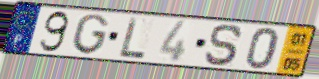0: (244, 26, 282, 71)
4: (157, 18, 190, 65)
9: (38, 10, 71, 53)
G: (70, 13, 111, 56)
L: (118, 15, 147, 60)
S: (203, 23, 245, 68)
